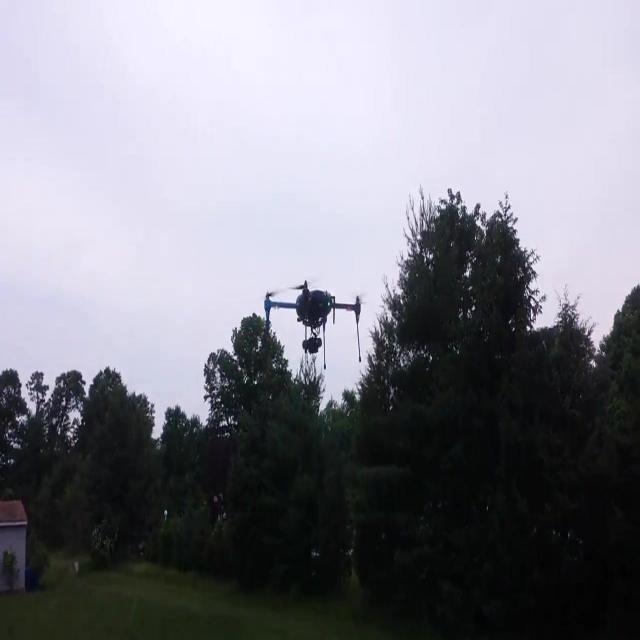UAV: (264, 280, 367, 370)
